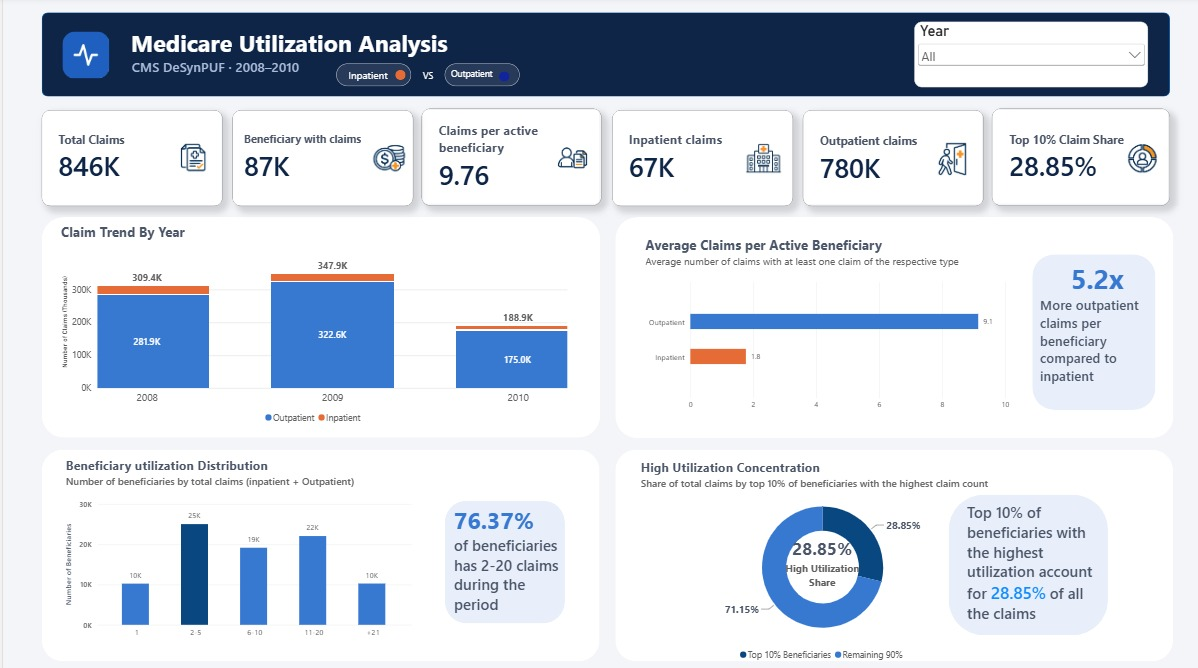

This screenshot's page, from the dashboard's own definition file:
{"tool":"powerbi","page":{"name":"Medicare Utilization Analysis","canvas":[1920,1080],"ordinal":2},"visuals":[{"type":"shape","title":"Inpatient        ","box":[535,102.1,120,36],"z":0,"group":"g1"},{"type":"shape","box":[62.5,720,895,340],"z":0},{"type":"shape","box":[62.5,20,1810,135],"z":1000},{"type":"shape","box":[629.6,112.2,17.1,16.6],"z":1000,"group":"g1"},{"type":"shape","box":[982,348,895.7,355],"z":1000,"group":"g3"},{"type":"textbox","box":[113,43,926.9,82.3],"z":2000},{"type":"textbox","box":[543.1,109,86.7,35.6],"z":2000,"group":"g1"},{"type":"image","box":[94,50,77.3,77.3],"z":3000},{"type":"shape","title":"Inpatient        ","box":[708.1,102.3,120,36],"z":3000,"group":"g1"},{"type":"shape","box":[797.3,114,17.1,16.6],"z":4000,"group":"g1"},{"type":"cardVisual","title":"tgg","fields":{"Data":["Cleaned_claims_file.Total Claims"]},"box":[62,176,290,154],"z":4000},{"type":"textbox","box":[708.1,109,86.7,35.6],"z":5000,"group":"g1"},{"type":"cardVisual","title":"tgg","fields":{"Data":["Cleaned_claims_file.Total Claims"]},"box":[1282.8,176,290,154],"z":5000},{"type":"textbox","box":[665.6,112.7,31.2,26.2],"z":6000,"group":"g1"},{"type":"cardVisual","title":"tgg","fields":{"Data":["Cleaned_claims_file.avg claims per Active Beneficiary"]},"box":[671.9,175.3,288.9,155.8],"z":6000},{"type":"cardVisual","title":"tgg","fields":{"Data":["Cleaned_claims_file.Total Claims"]},"box":[977.6,176,290,154],"z":7000},{"type":"columnChart","title":"Beneficiary utilization Distribution","fields":{"Category":["Claims_Utilization.Claims_Range"],"Y":["Sum(Claims_Utilization.Beneficiaries)"]},"box":[85,719.4,586.7,325.5],"z":8000},{"type":"group","id":"g1","title":"Group 1","box":[535,102.1,294.3,42.9],"z":9000},{"type":"slicer","fields":{"Values":["Cleaned_claims_file.Claim Year"]},"box":[1462.5,35,375,105],"z":10000},{"type":"shape","box":[62.4,348.6,896,354],"z":10000,"group":"g2"},{"type":"shape","box":[982.5,720,895,340],"z":11000},{"type":"group","id":"g2","title":"Group 3","box":[62.4,343.3,896,359.3],"z":12000},{"type":"cardVisual","title":"tgg","fields":{"Data":["Cleaned_claims_file.High Utilization Share"]},"box":[1587.3,175.3,285.7,155.8],"z":13000},{"type":"group","id":"g3","title":"Group 4","box":[982,348,895.7,355],"z":14000},{"type":"columnChart","title":"Claim Trend By Year","fields":{"Category":["Cleaned_claims_file.Claim Year"],"Series":["Cleaned_claims_file.Claim_Type"],"Y":["Cleaned_claims_file.Total Claims"]},"box":[78.5,343.3,844.1,356.8],"z":15000,"group":"g2"},{"type":"donutChart","title":"High Utilization Concentration","fields":{"Y":["Cleaned_claims_file.High Utilization Share","Cleaned_claims_file.Remaining 90% Share"]},"box":[1006.5,721.1,615.2,359.3],"z":15000},{"type":"shape","box":[1516,794,256,226],"z":16000},{"type":"textbox","box":[1546,806,226,202],"z":17000},{"type":"clusteredBarChart","title":"Average Claims per Active Beneficiary","fields":{"Category":["Cleaned_claims_file.Claim_Type"],"Y":["Cleaned_claims_file.avg claims per Active Beneficiary"]},"box":[1014,364,616,316],"z":18000},{"type":"textbox","box":[982.8,588.8,145.1,30],"z":18000,"group":"g3"},{"type":"shape","box":[1650,408,198,250],"z":19000},{"type":"textbox","box":[1664,418,184,216],"z":20000},{"type":"cardVisual","title":"tgg","fields":{"Data":["Cleaned_claims_file.Active Beneficiaries"]},"box":[366.8,176,290,154],"z":21000},{"type":"shape","box":[709,802.3,192.8,196.9],"z":22000},{"type":"textbox","box":[723.5,808.5,178.3,190.7],"z":23000},{"type":"cardVisual","fields":{"Data":["Cleaned_claims_file.High Utilization Share"]},"box":[1237.8,853.9,152.6,100.9],"z":24000},{"type":"image","box":[1792.5,223.8,70,60],"z":25000}]}

Visuals, with their boxes in screenshot pixels (x1, y1, x2, y2), scaled from the page's 1920x1080 canvas onto the 1198x668 screenshot:
"Inpatient        " shape: 334,63,409,85
shape: 39,445,597,656
shape: 39,12,1168,96
shape: 393,69,404,80
shape: 613,215,1172,435
textbox: 71,27,649,78
textbox: 339,67,393,89
image: 59,31,107,79
"Inpatient        " shape: 442,63,517,86
shape: 497,71,508,81
"tgg" cardVisual: 39,109,220,204
textbox: 442,67,496,89
"tgg" cardVisual: 800,109,981,204
textbox: 415,70,435,86
"tgg" cardVisual: 419,108,599,205
"tgg" cardVisual: 610,109,791,204
"Beneficiary utilization Distribution" columnChart: 53,445,419,646
"Group 1" group: 334,63,517,90
slicer - Cleaned_claims_file.Claim Year: 913,22,1147,87
shape: 39,216,598,435
shape: 613,445,1171,656
"Group 3" group: 39,212,598,435
"tgg" cardVisual: 990,108,1169,205
"Group 4" group: 613,215,1172,435
"Claim Trend By Year" columnChart: 49,212,576,433
"High Utilization Concentration" donutChart: 628,446,1012,667
shape: 946,491,1106,631
textbox: 965,499,1106,623
"Average Claims per Active Beneficiary" clusteredBarChart: 633,225,1017,421
textbox: 613,364,704,383
shape: 1030,252,1153,407
textbox: 1038,259,1153,392
"tgg" cardVisual: 229,109,410,204
shape: 442,496,563,618
textbox: 451,500,563,618
cardVisual - Cleaned_claims_file.High Utilization Share: 772,528,868,591
image: 1118,138,1162,176
